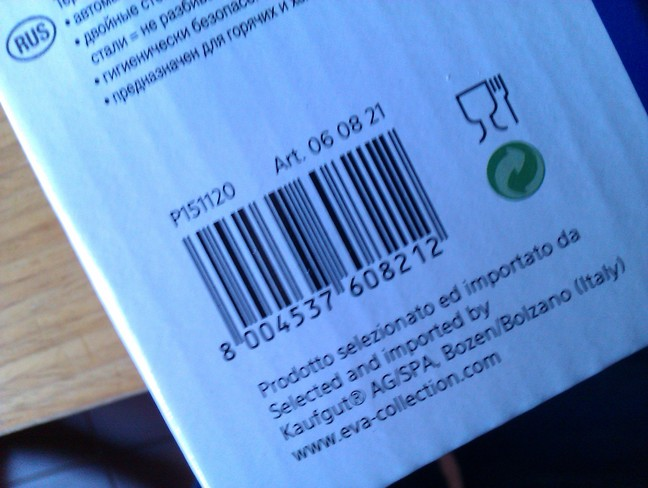barcode: (145, 124, 461, 363)
